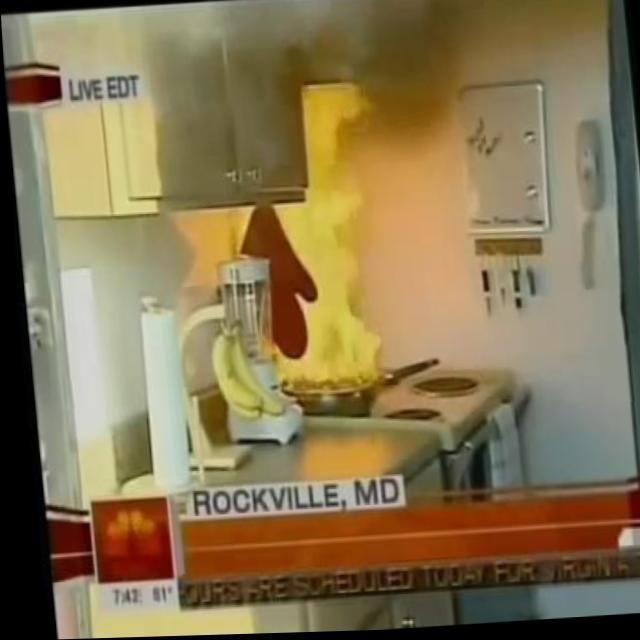fire: (216, 82, 392, 402)
